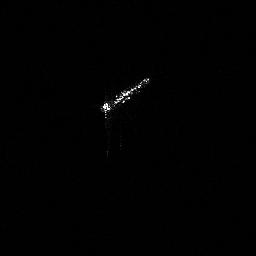ship: (95, 73, 153, 120)
